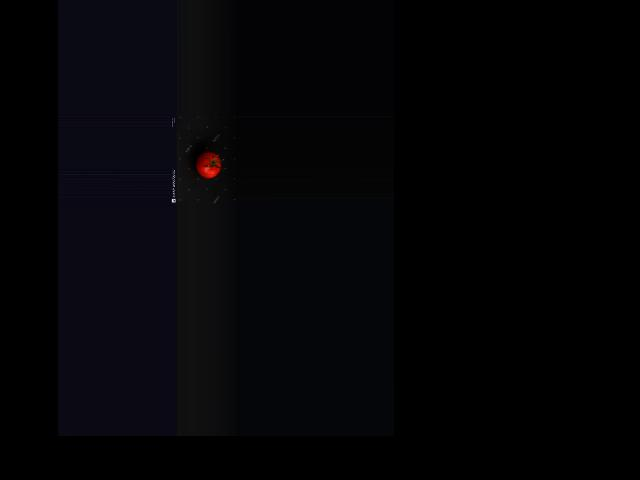tomato: (196, 150, 221, 178)
